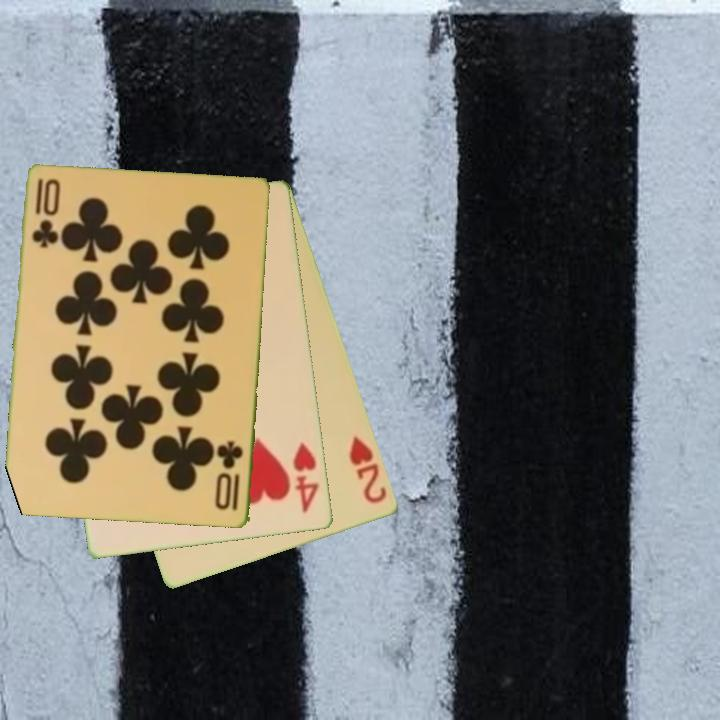10c: (213, 437, 246, 514), (28, 175, 61, 252)
2h: (346, 433, 390, 507)
4h: (290, 438, 323, 516)
